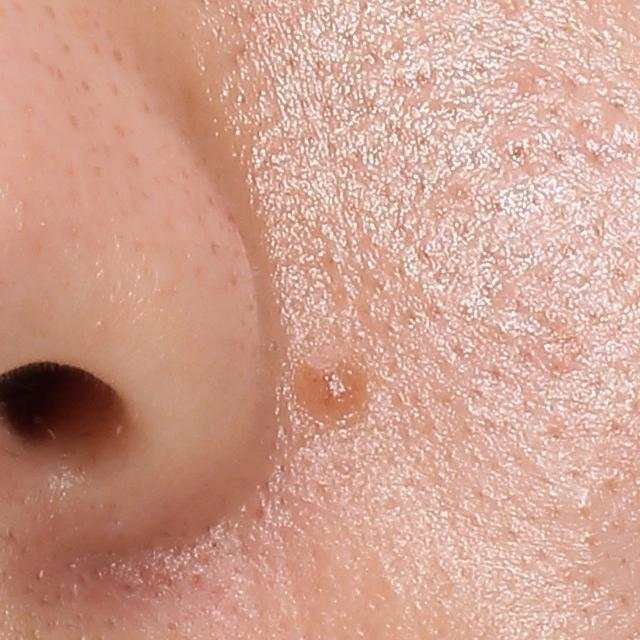nevus: (297, 343, 375, 425)
